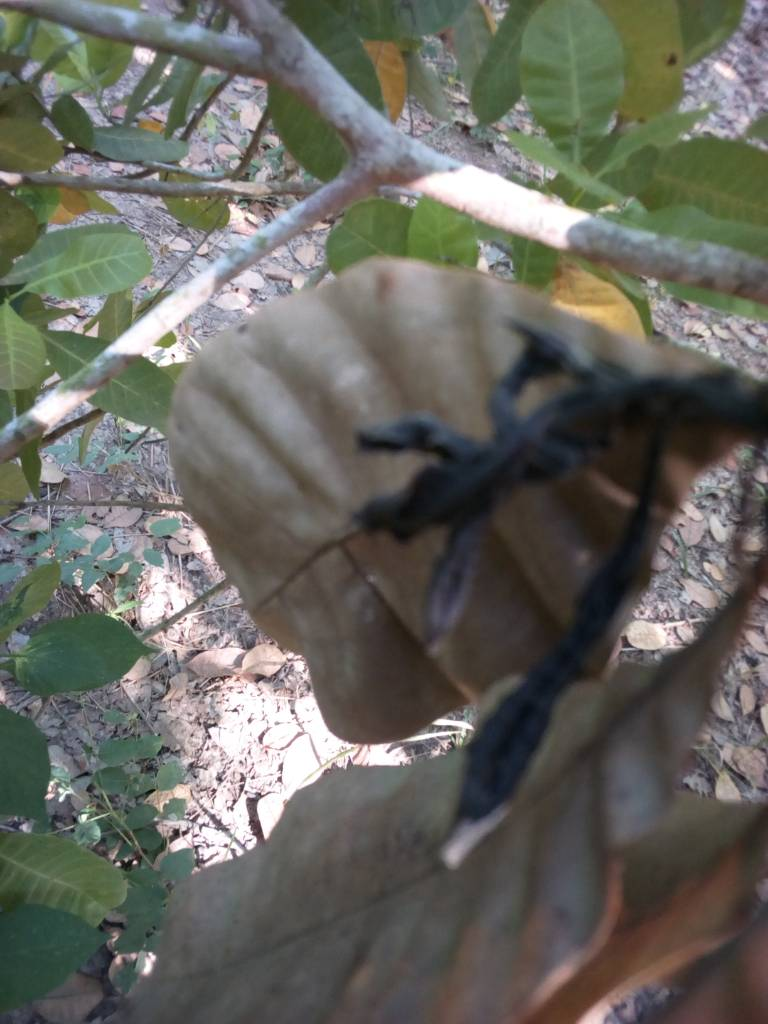Dessèchement des bourgeons: (313, 349, 755, 857)
